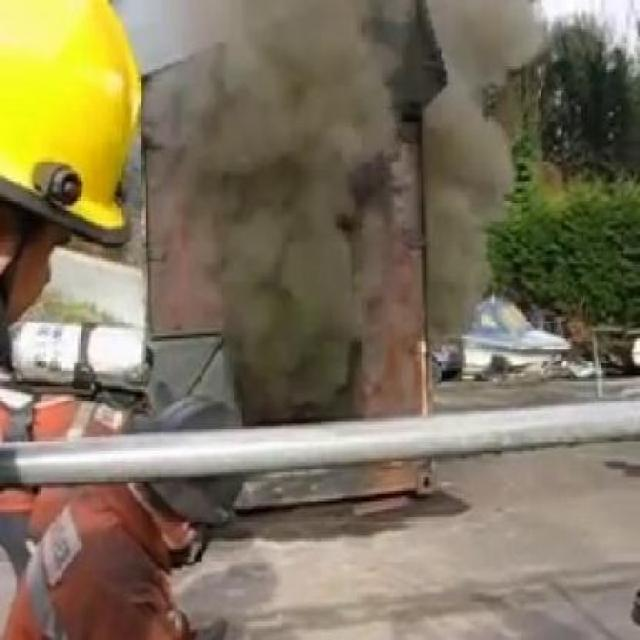smoke: (198, 22, 378, 400), (430, 117, 508, 316), (438, 3, 542, 88)
